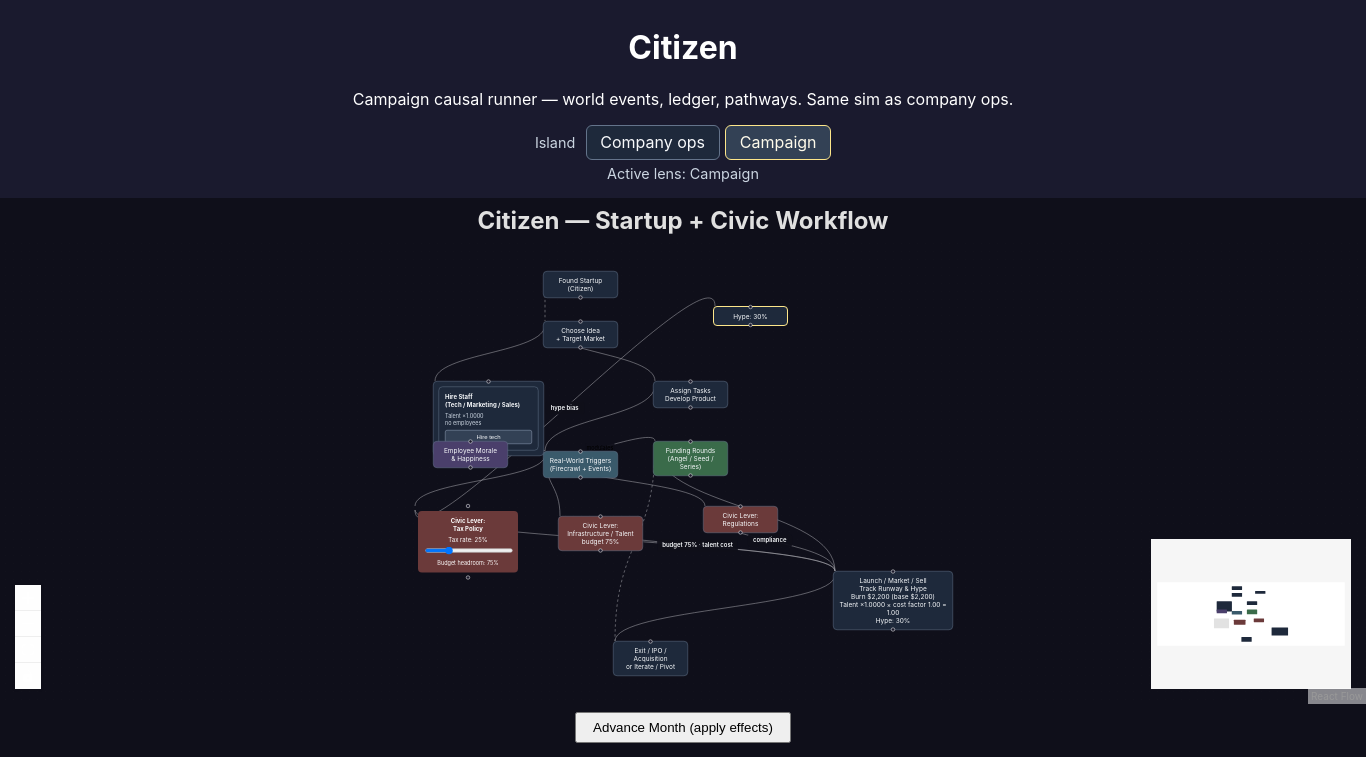
it: hire on diagram node 3 › Hire tech updates talent multiplier, burn preview, and Advance Month cash path
Step 1. Click the button with aria-label "hire tech employee" → click(488, 437), box [445,430,532,444]
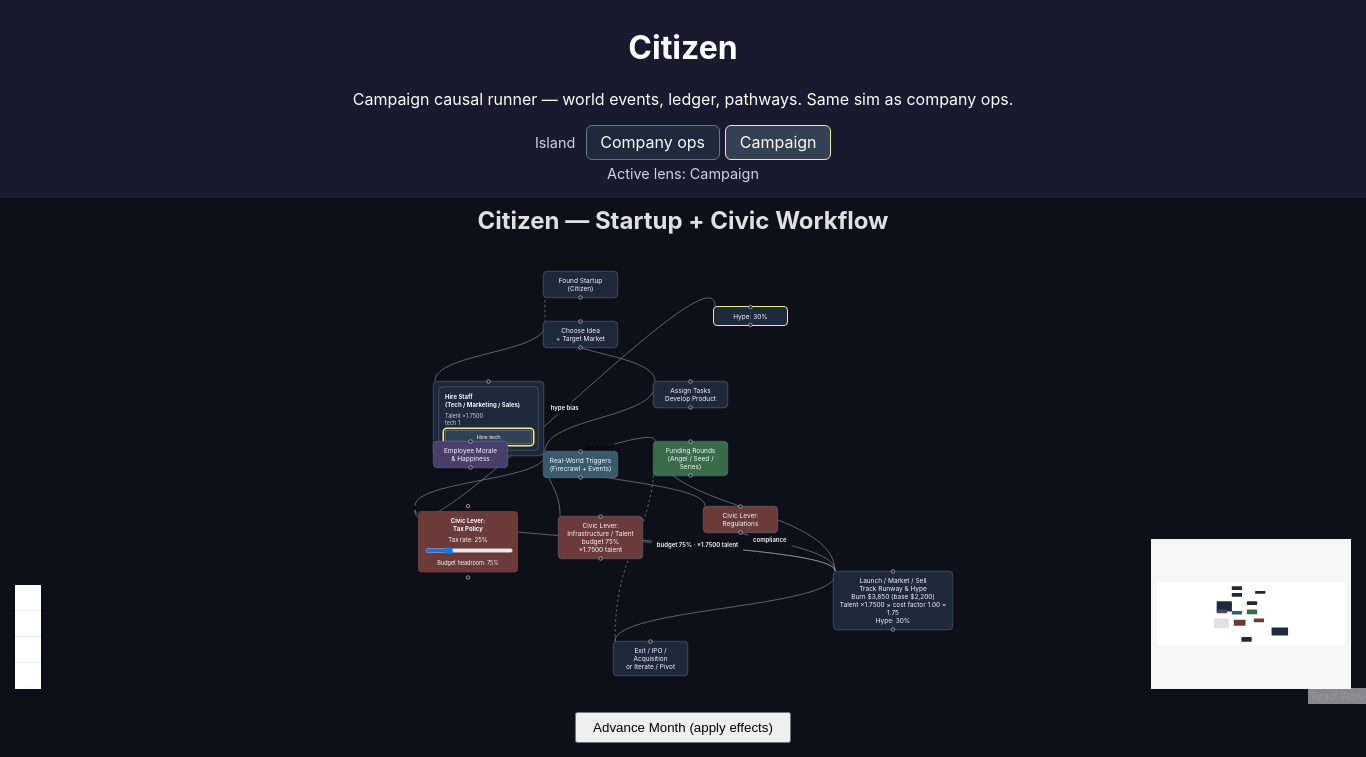
Result: the element named "Hire Staff. Talent multiplier 1.7500. tech 1." reads "Hire Staff (Tech / Marketing / Sales) Talent ×1.7500 tech 1 Hire tech" at [445,419,460,426]
Step 2. Click the button "Advance Month (apply effects)" → click(683, 728), box [575,712,791,743]
(page scrolled)
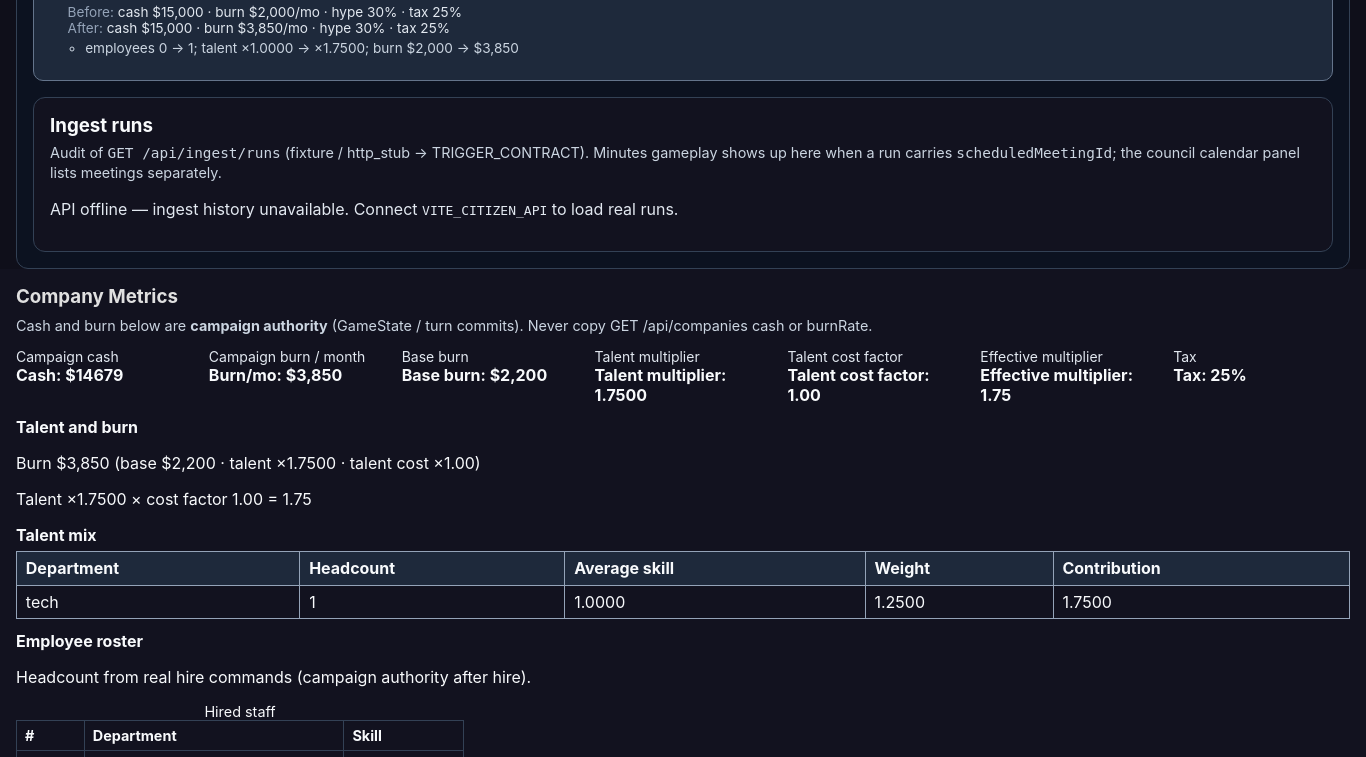
Result: the text with test id "burn-value" reads "Burn/mo: $3,850" at [209,365,342,385]
Result: the text with test id "cash-value" reads "Cash: $14679" at [16,365,123,385]
